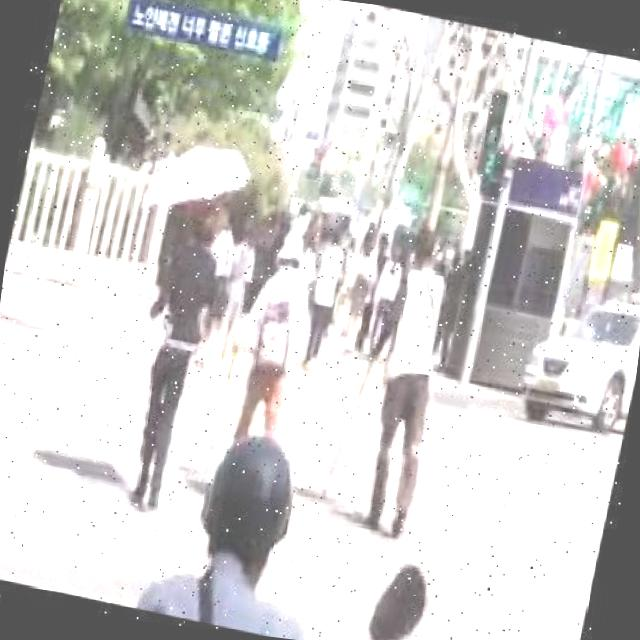Person: (314, 222, 467, 540), (111, 190, 236, 512), (200, 228, 328, 512), (300, 215, 352, 378)
